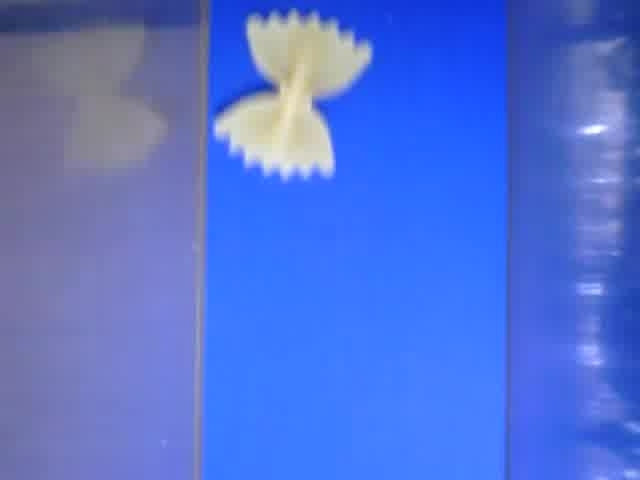farfalle: (211, 11, 372, 180)
